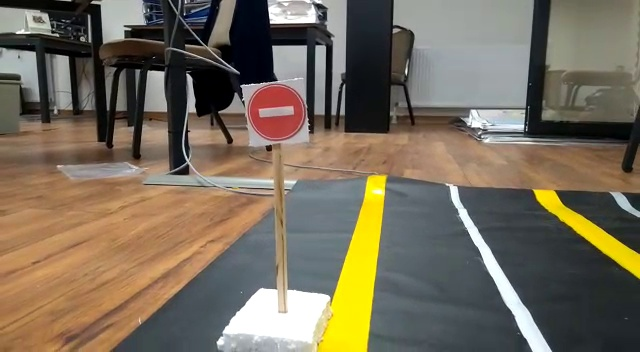girisi_olmayan_yol: (240, 82, 310, 143)
